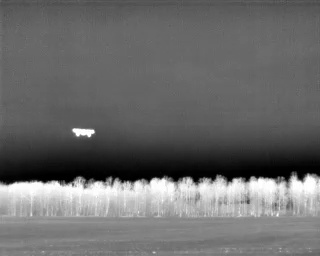DRONE: (67, 123, 99, 143)
